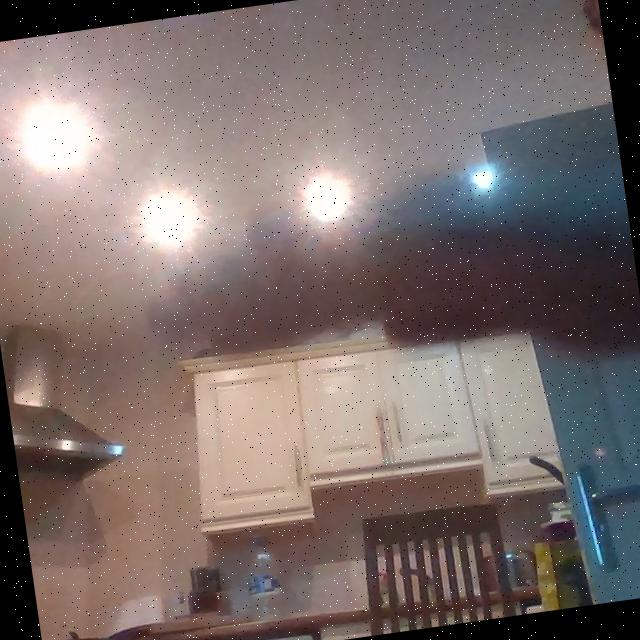papper: (128, 152, 626, 430)
